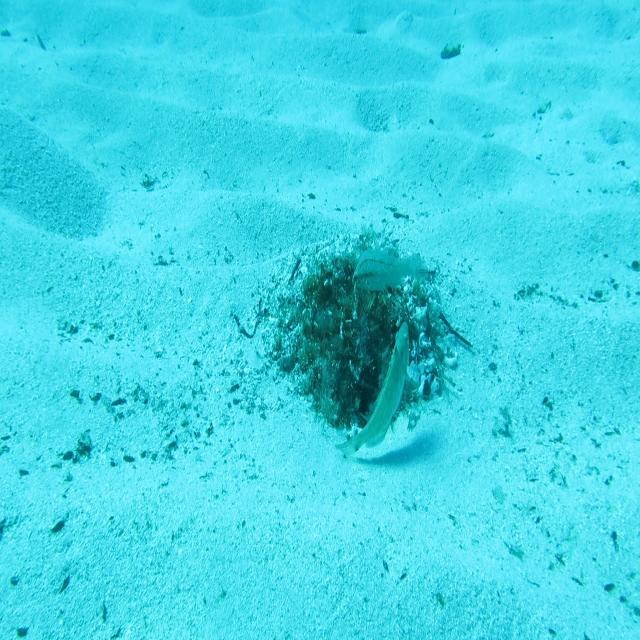GB: (332, 316, 412, 462)
core_nest: (326, 276, 382, 328)
female: (351, 242, 425, 296)
nest: (251, 220, 461, 456)
vegetation: (440, 46, 464, 61)
